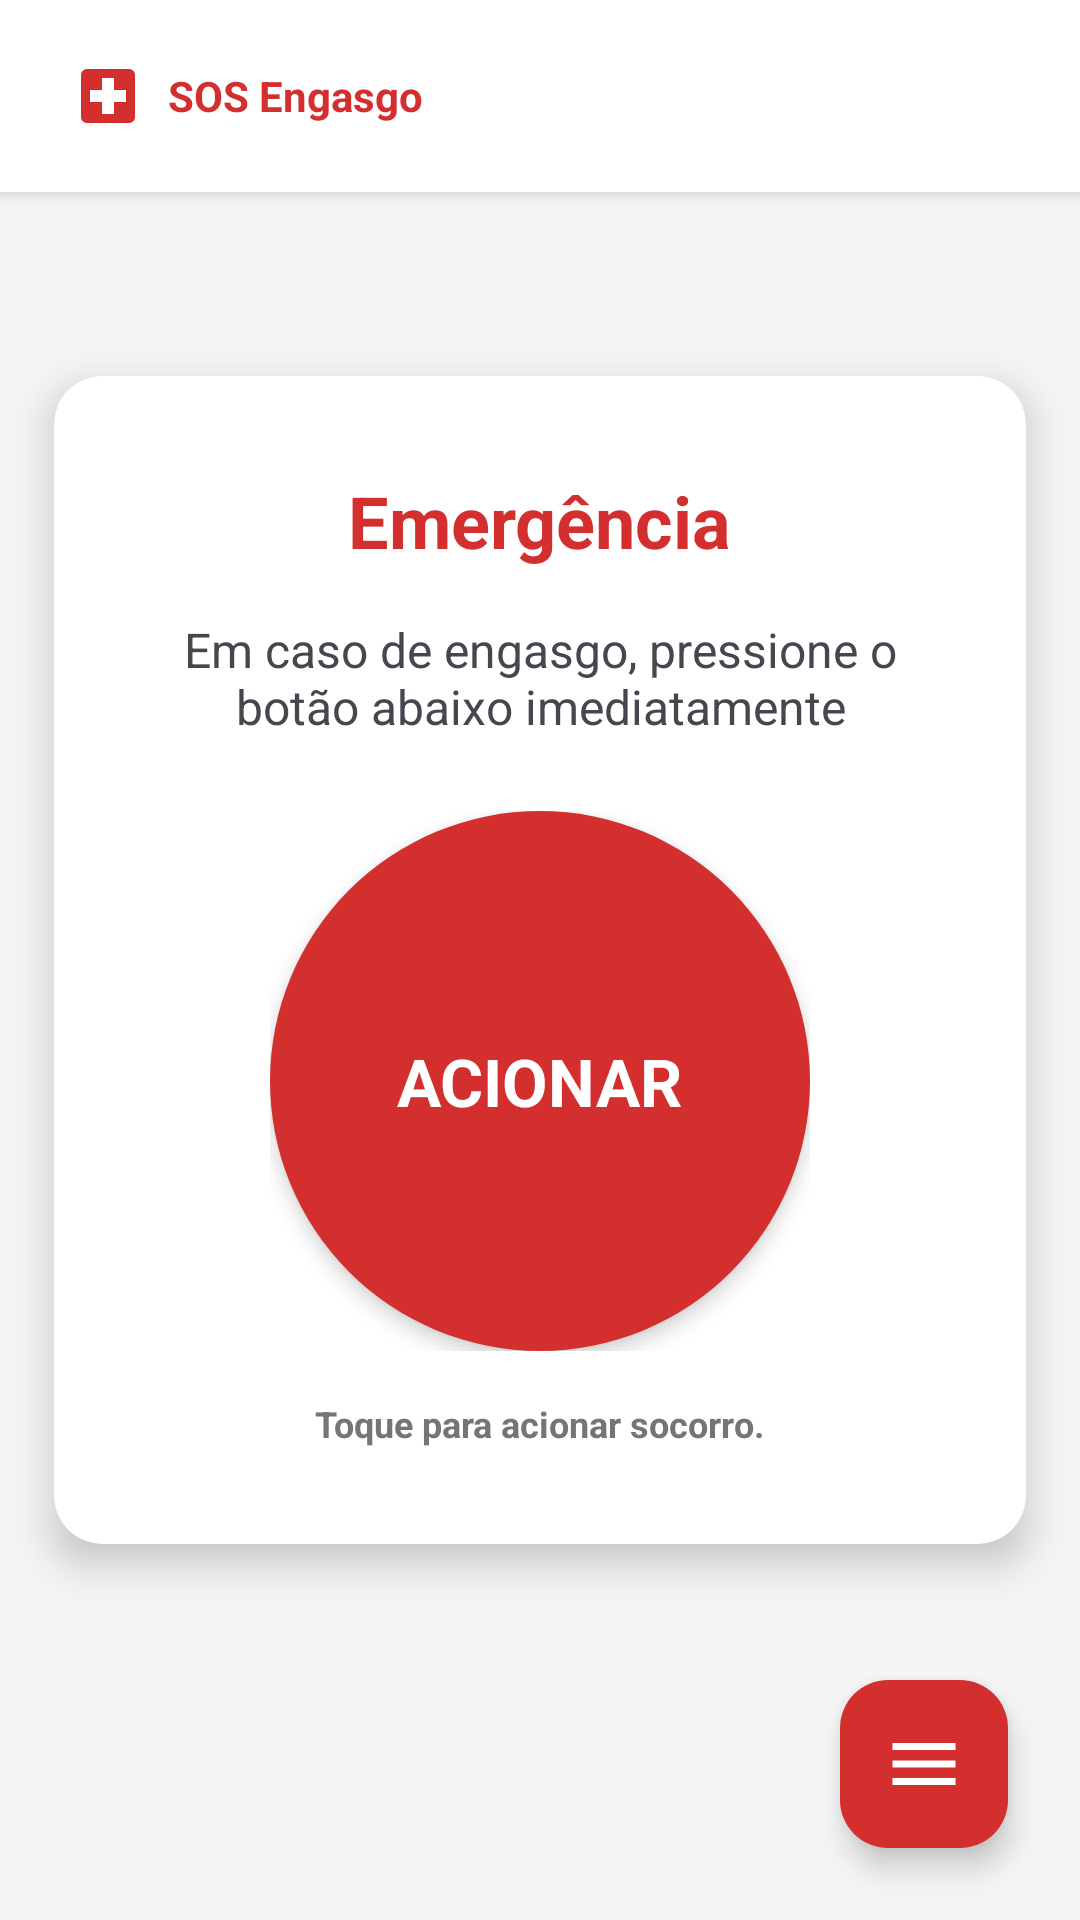

Where to tap for icons on this 1080 x 1920 app screen, as point (x, y):
Ícone menu com três riscos na horizontal: point (924, 1764)
